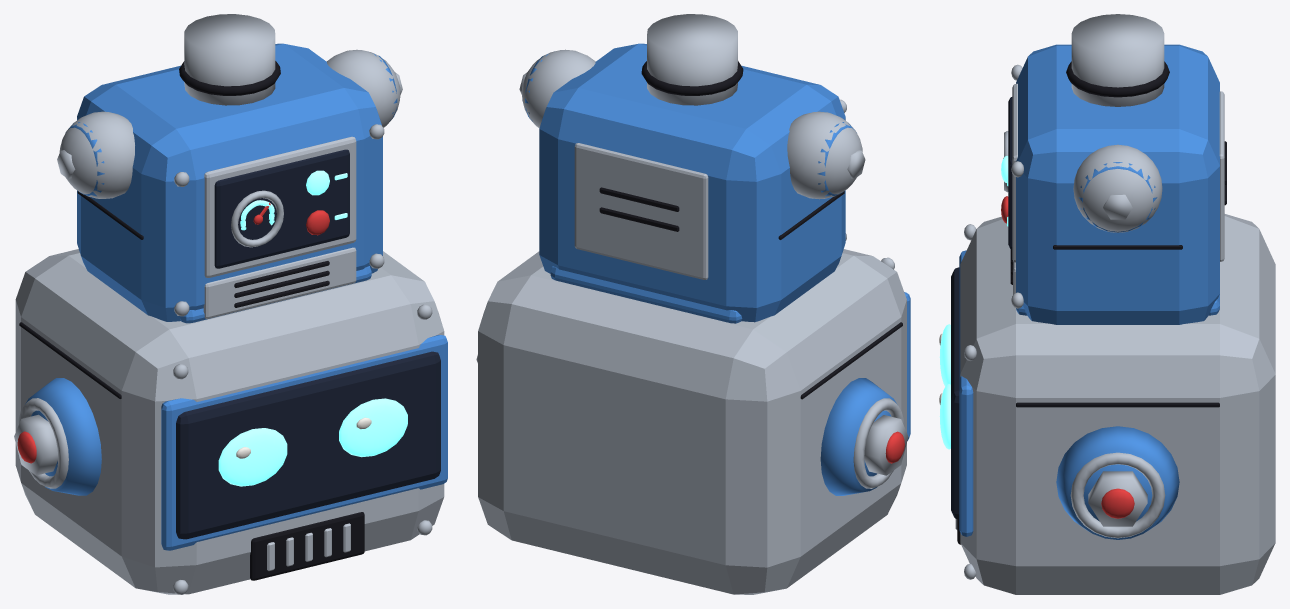
The model's file is robot.glb.
3 renders of one model, left to right at view 1: azimuth 30°, elevation 25°; view 2: azimuth 150°, elevation 25°; view 3: azimuth 270°, elevation 25°, orthographic.
Visible parts, largest first — view 1: robot_Head, robot_Body; view 2: robot_Head, robot_Body; view 3: robot_Head, robot_Body.
Boxes of the visible parts, x1,y1,x2,y2 form: robot_Head: (14,249,447,594); robot_Body: (57,14,402,321); robot_Head: (476,249,910,594); robot_Body: (519,14,865,322); robot_Head: (939,214,1275,594); robot_Body: (1001,14,1226,324).
Size of the model in its own units: 0.263 by 0.3 by 0.1813.
